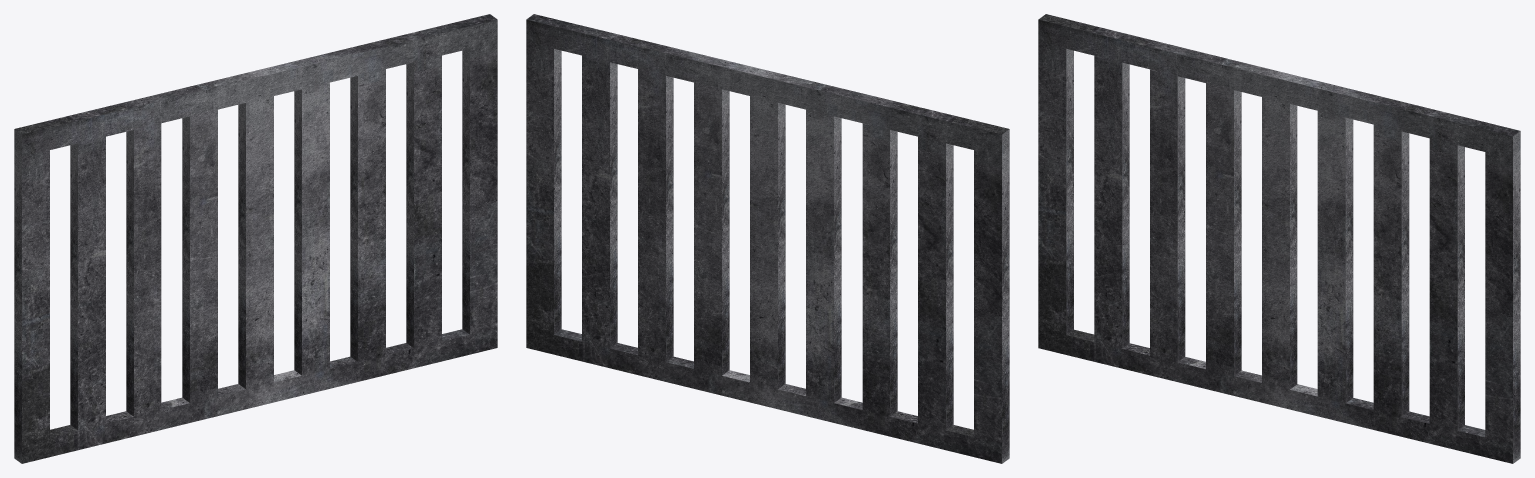
File: IronBar.fbx
The picture shows the model from 3 angles, left to right: view 1: azimuth 30°, elevation 25°; view 2: azimuth 150°, elevation 25°; view 3: azimuth 330°, elevation 25°; orthographic projection.
Parts seen in each view (by area): view 1: Cube; view 2: Cube; view 3: Cube.
Boxes of the visible parts, box(x1,y1,x2,y2) form: Cube: box(14, 14, 497, 463); Cube: box(526, 14, 1009, 463); Cube: box(1038, 14, 1520, 463).
Bounding box in the file's own units: 802 × 531 × 22.42.
